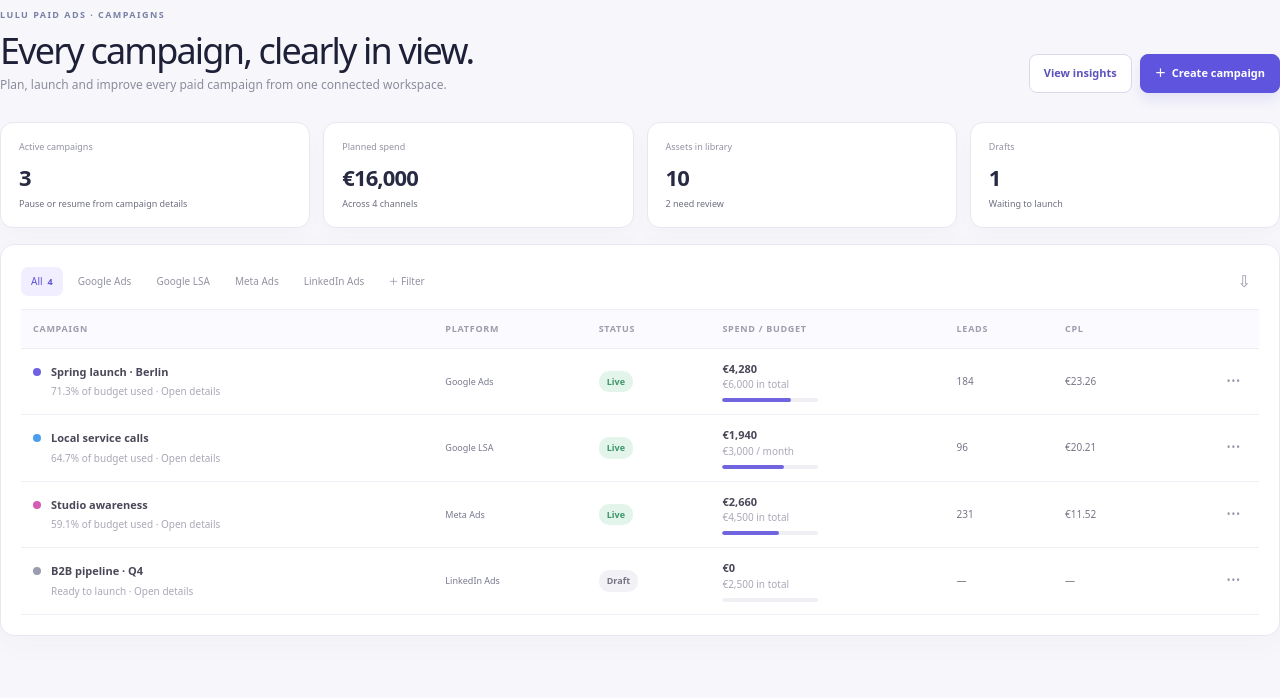
Test: Campaign drawer › shows details and pauses only after confirming
The width and height of the screenshot is (1280, 698).
Click the button named "Open Spring launch · Berlin" at point(1234, 381), box [1221,370,1247,393]
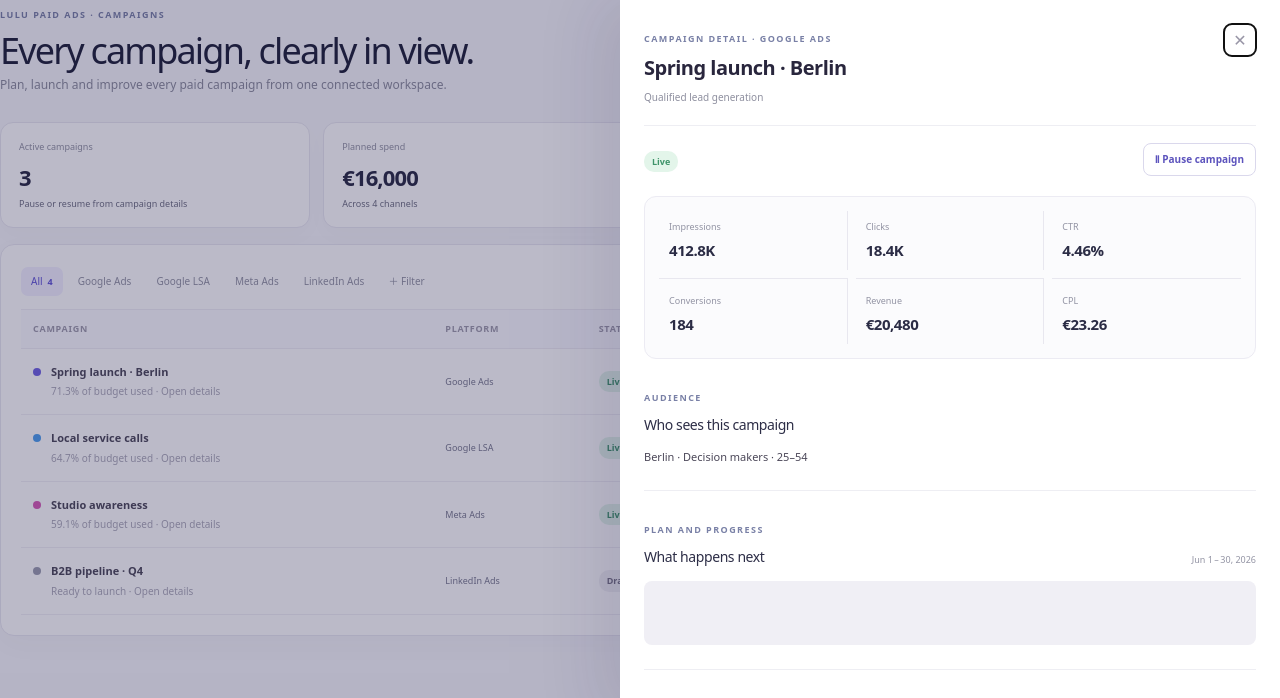
Now the text "Qualified lead generation" is shown, box [644,90,1256,126]
Now the text "412.8K" is shown, box [669,240,715,260]
Now the text "4.46%" is shown, box [1062,240,1104,260]
Click the button "Ⅱ Pause campaign" at point(1199, 160), box [1143,143,1256,176]
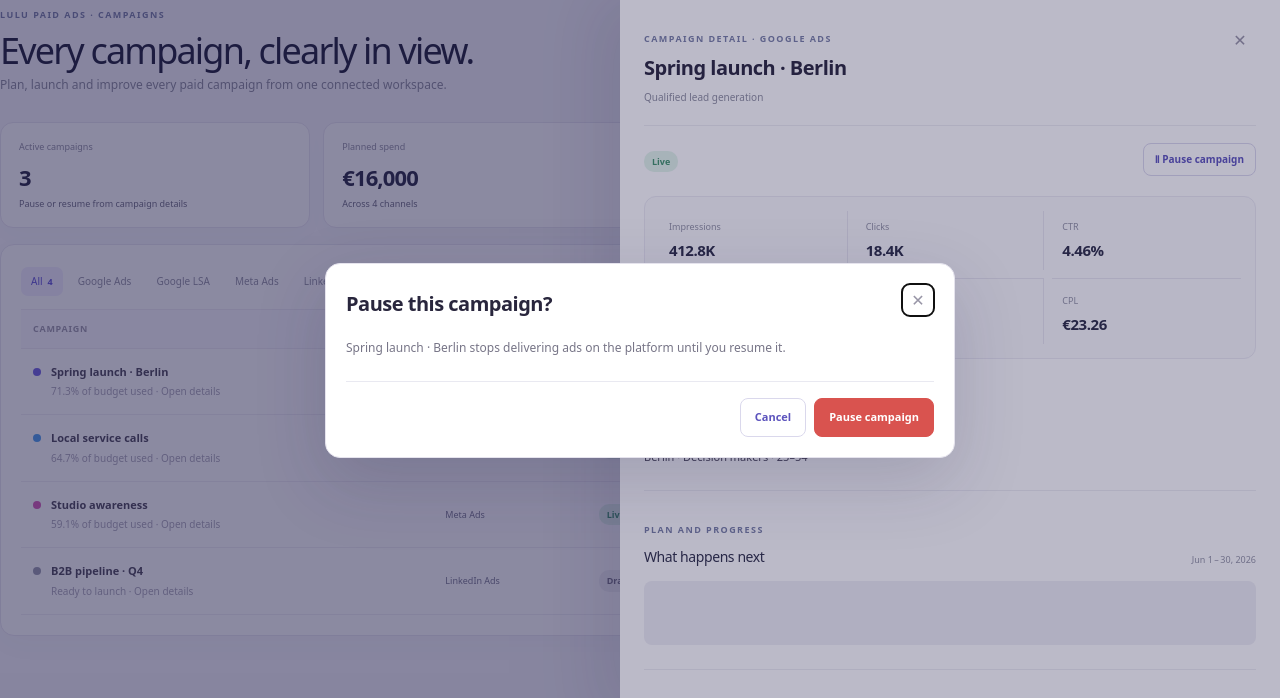
Click the button "Cancel" at point(773, 417), box [740,398,806,436]
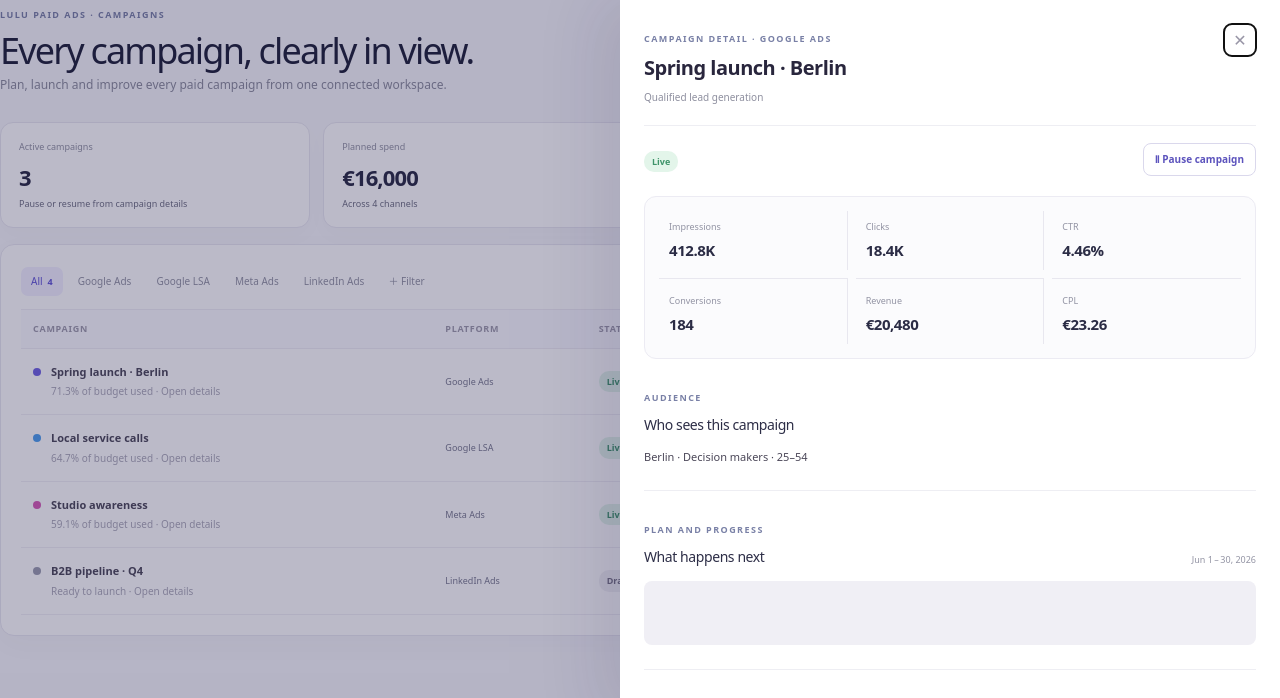
Now the text "Live" is shown, box [644,151,678,172]
Now the heading "Pause this campaign?" is gone
Click the button "Ⅱ Pause campaign" at point(1199, 160), box [1143,143,1256,176]
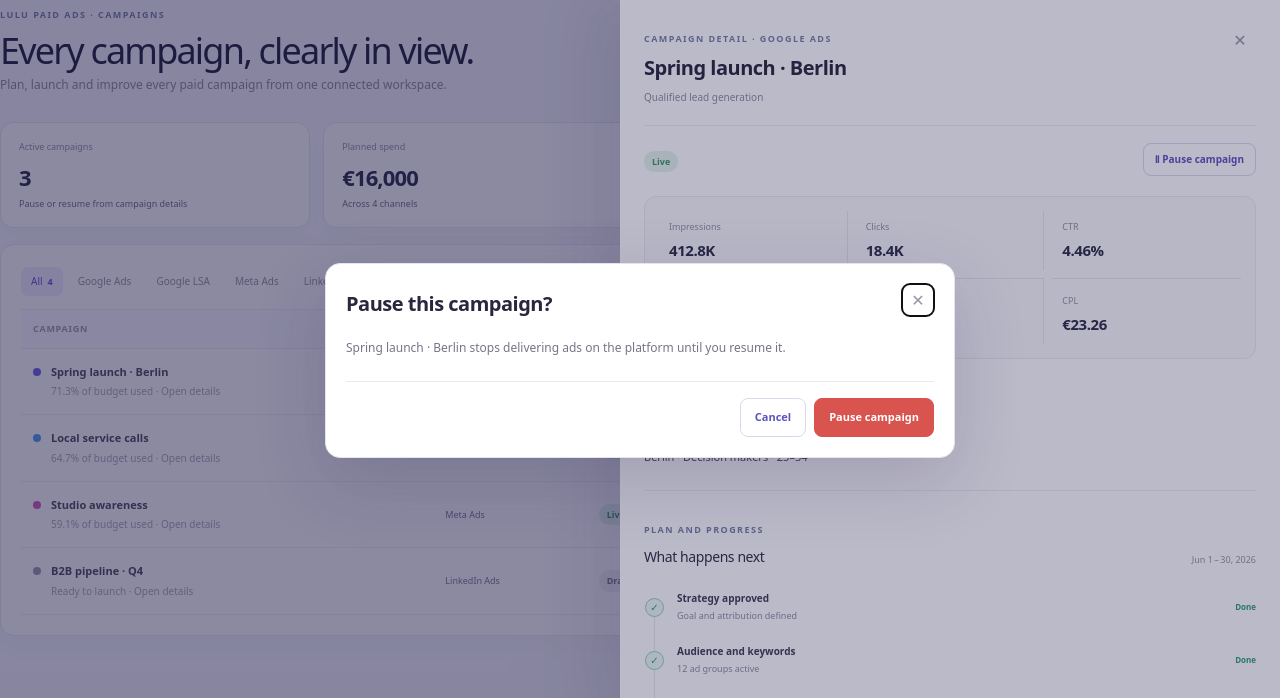
Click the button "Pause campaign" at point(874, 417), box [814,398,934,436]
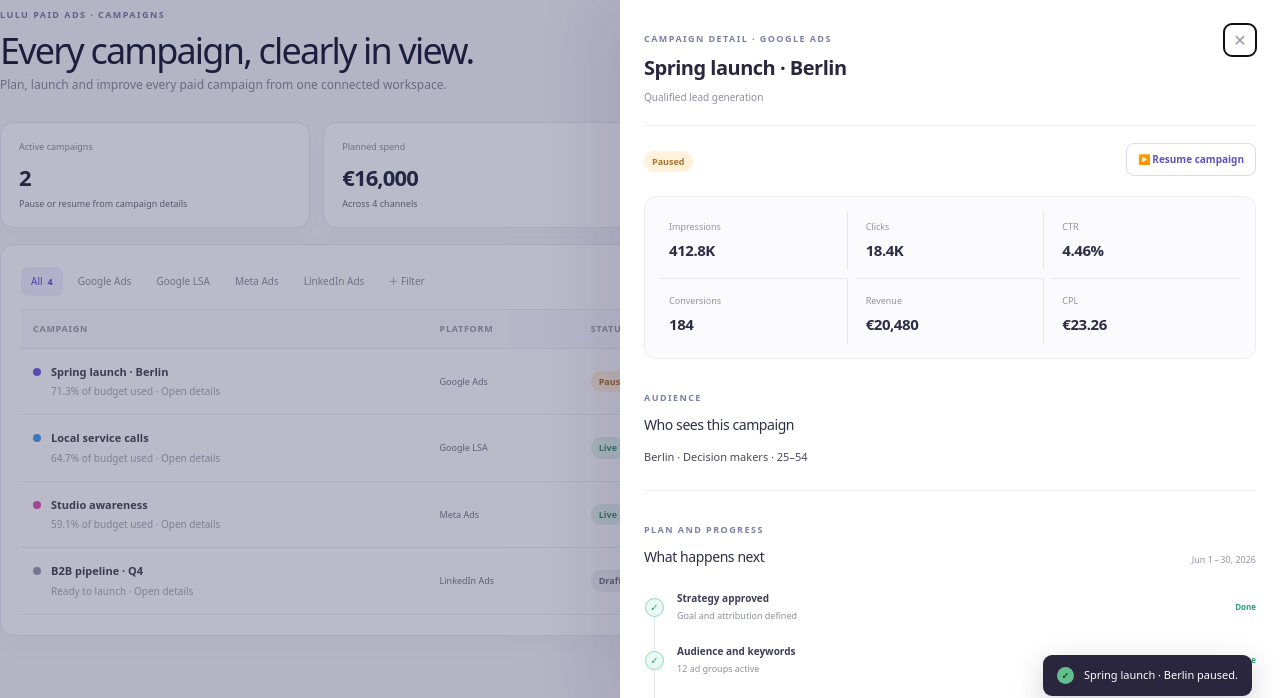
Now the text "Spring launch · Berlin paused." is shown, box [1084,667,1238,682]
Now the button "▶ Resume campaign" is shown, box [1126,143,1256,176]
